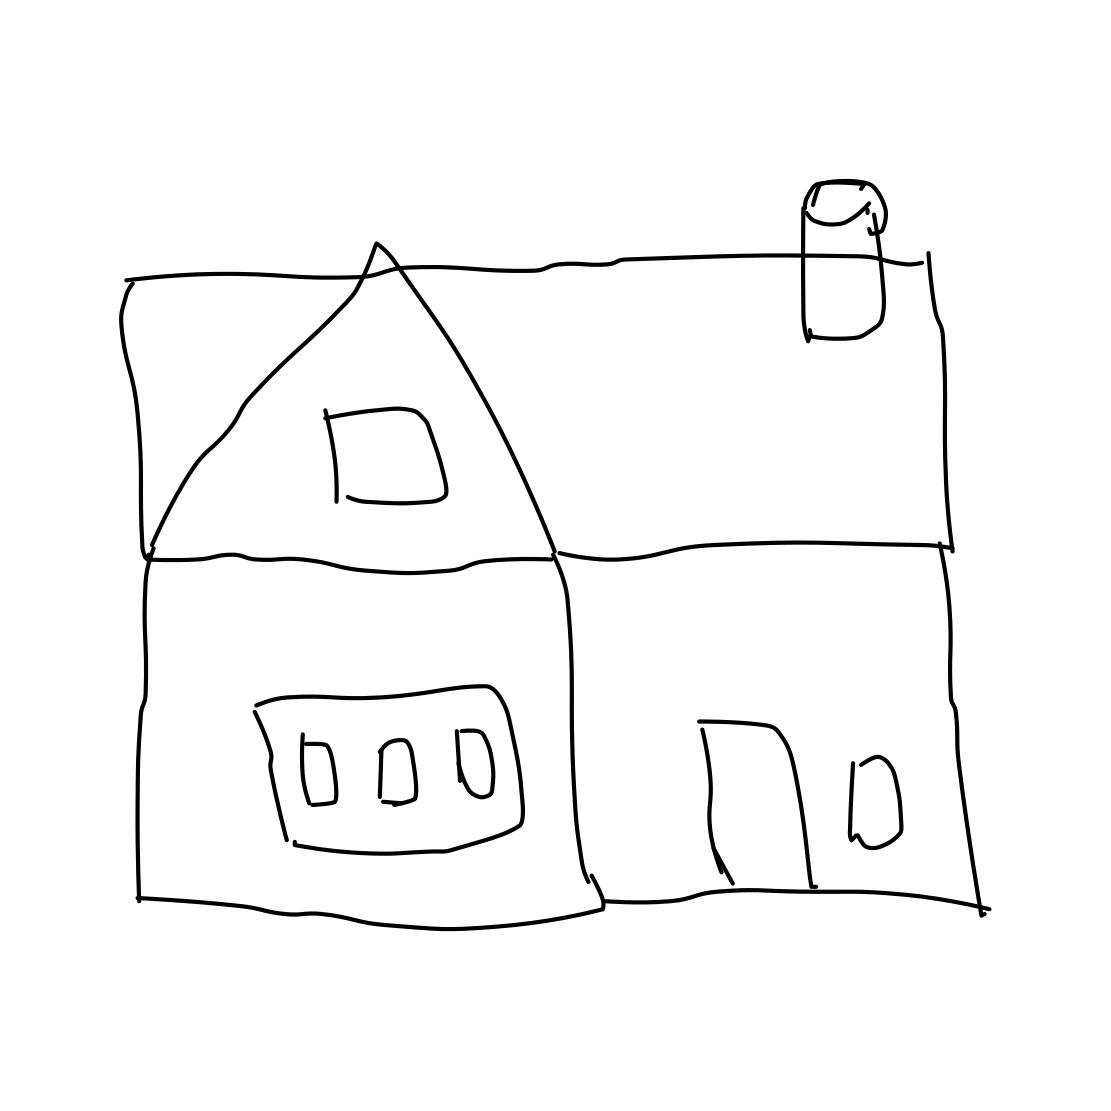chimney: (794, 170, 893, 343)
door: (685, 702, 817, 896)
house: (104, 165, 1002, 940)
roof: (113, 168, 970, 567)
window: (232, 660, 536, 862), (321, 395, 454, 512), (843, 747, 910, 855)
